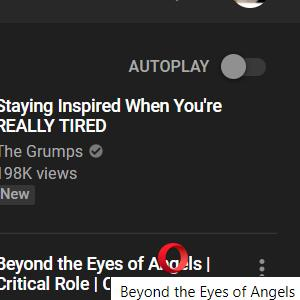opera: (158, 243, 189, 273)
